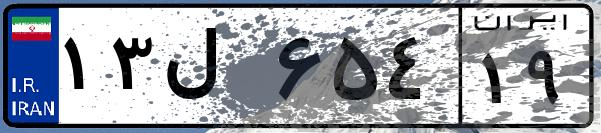1: (57, 26, 110, 100), (475, 38, 525, 113)
3: (110, 28, 158, 98)
4: (385, 28, 445, 110)
5: (330, 28, 385, 110)
6: (270, 28, 330, 110)
9: (525, 38, 570, 115)
ل: (158, 20, 270, 120)
